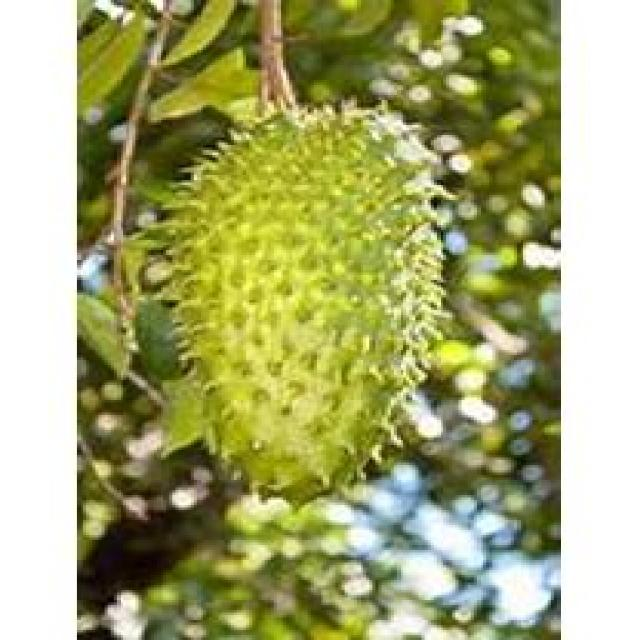fruit: (123, 165, 486, 560)
